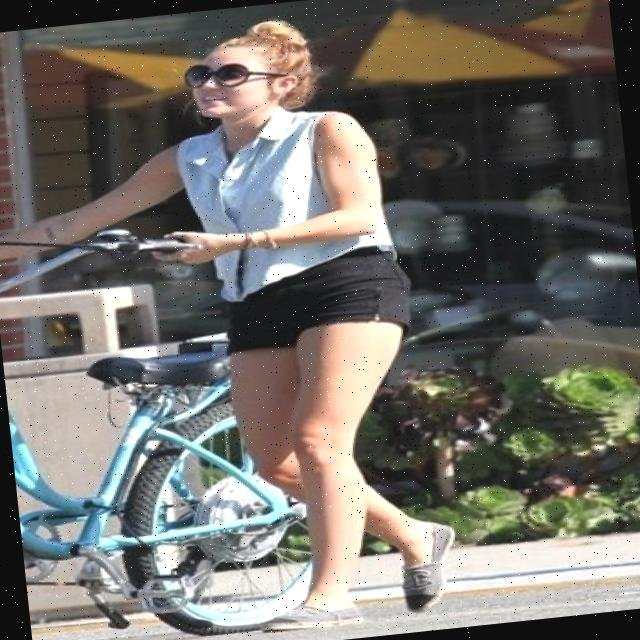no-boots: (374, 504, 492, 624), (240, 588, 383, 640)
